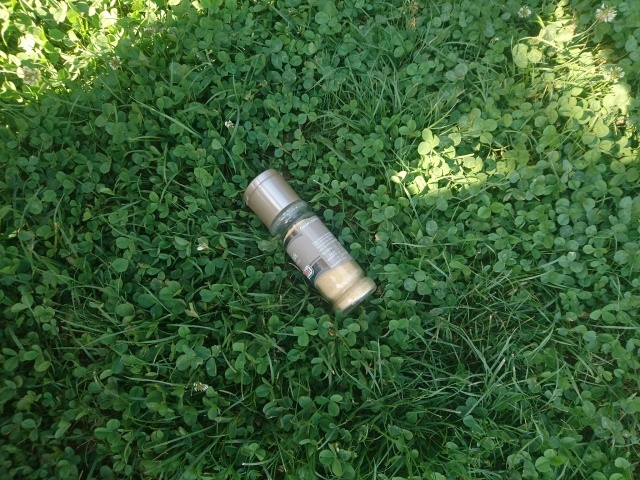Kotanyi Garlic Granules 70g: (240, 166, 379, 319)
